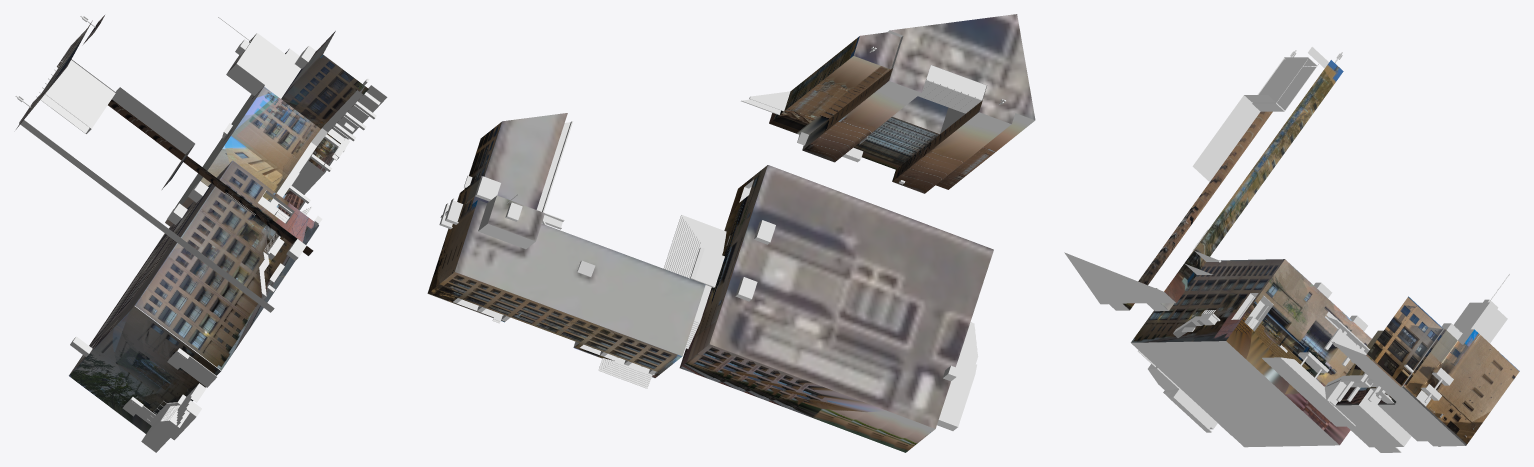
The model's file is 39951_bldg_Building.glb.
3 renders of one model, left to right at view 1: azimuth 30°, elevation 25°; view 2: azimuth 150°, elevation 25°; view 3: azimuth 270°, elevation 25°, orthographic. The views are drawn at different scales.
Size of the model in its own units: 117 by 103 by 109.
4 materials, 3 textured.
